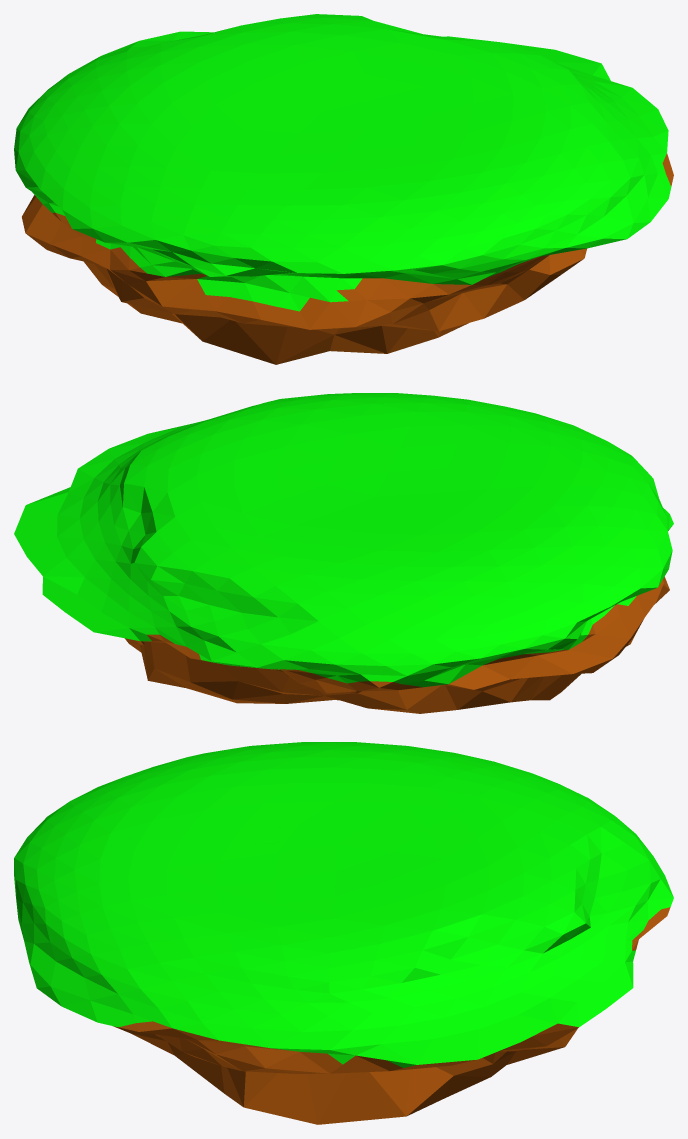
The model's file is Island_2.fbx.
The picture shows the model from 3 angles, top to bottom: view 1: azimuth 30°, elevation 25°; view 2: azimuth 150°, elevation 25°; view 3: azimuth 270°, elevation 25°; orthographic projection. The views are drawn at different scales.
Parts seen in each view (by area): view 1: Island_2; view 2: Island_2; view 3: Island_2.
Part boxes in pixels (<box>): Island_2: <box>14,14,673,364</box>; Island_2: <box>14,393,673,713</box>; Island_2: <box>14,742,673,1124</box>.
Bounding box in the file's own units: 209 × 56.63 × 196.
